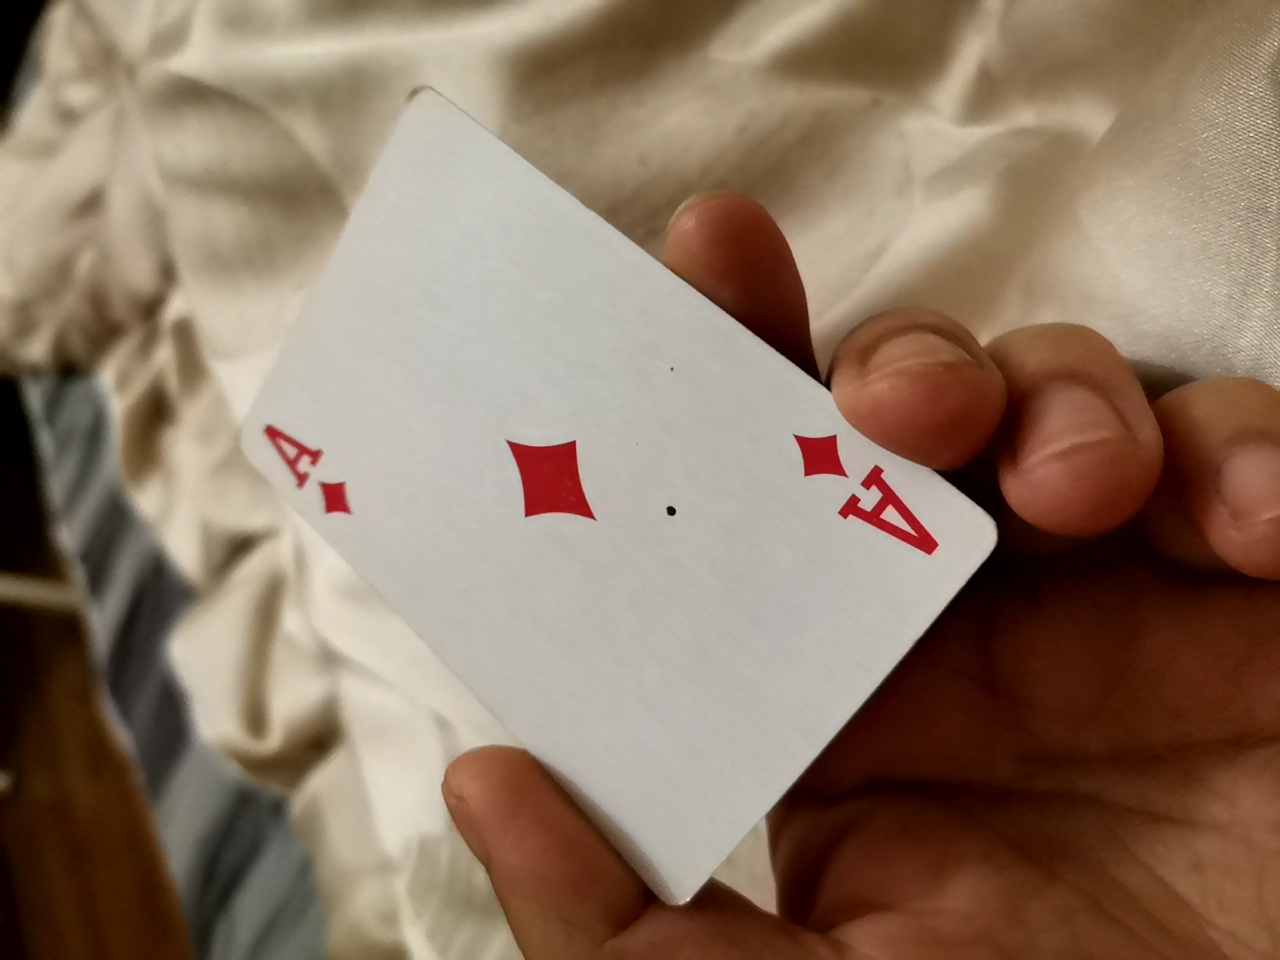fk a: (175, 102, 1007, 905)
